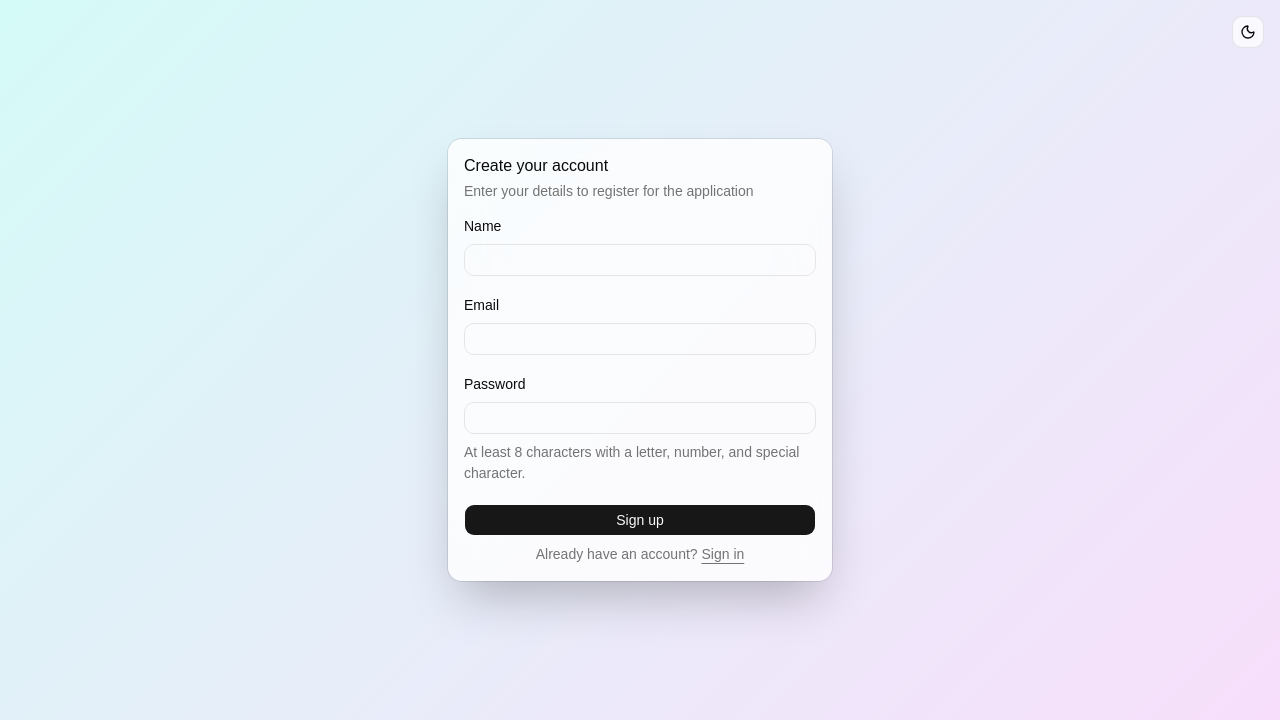
SignUpPage › shows duplicate email API errors
Expected: the heading "Create your account" is shown, top-left (464, 157), bottom-right (608, 174)
Step 1. Type "Jane Doe" into the field labelled "Name" → [640, 260], box top-left (464, 244), bottom-right (816, 276)
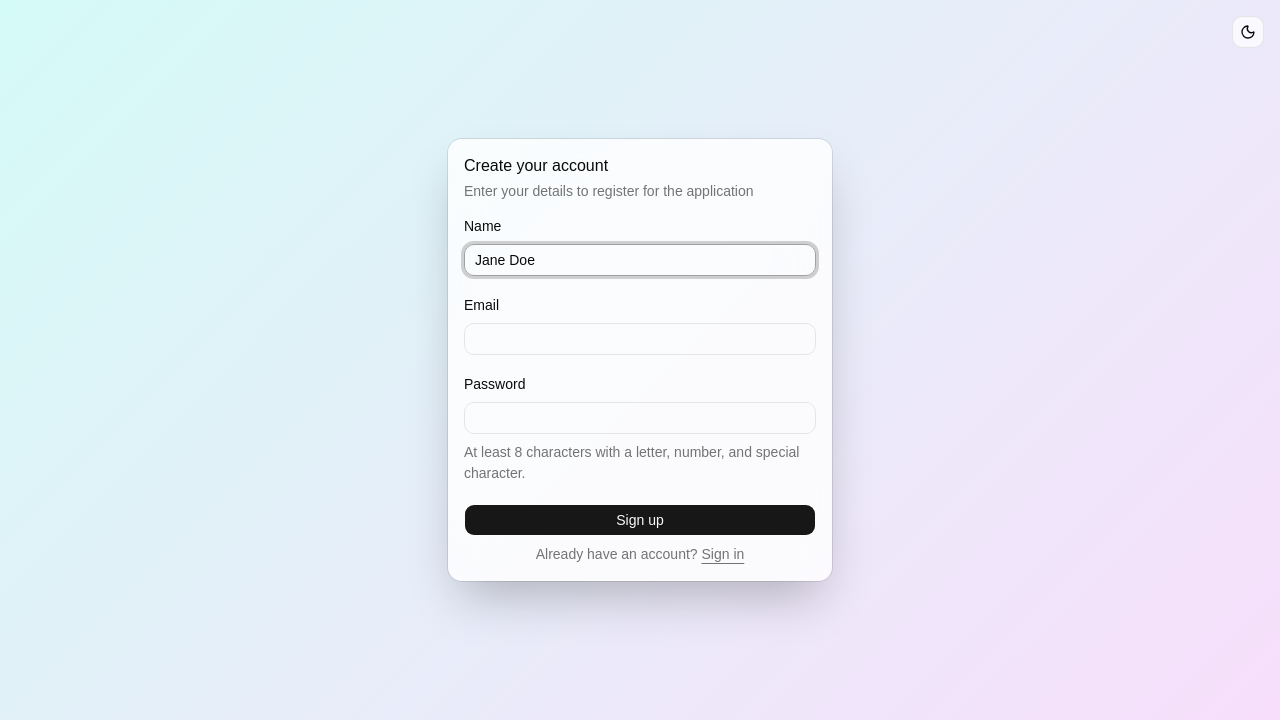
Step 2. Type "dup@example.com" into the field labelled "Email" → [640, 339], box top-left (464, 323), bottom-right (816, 355)
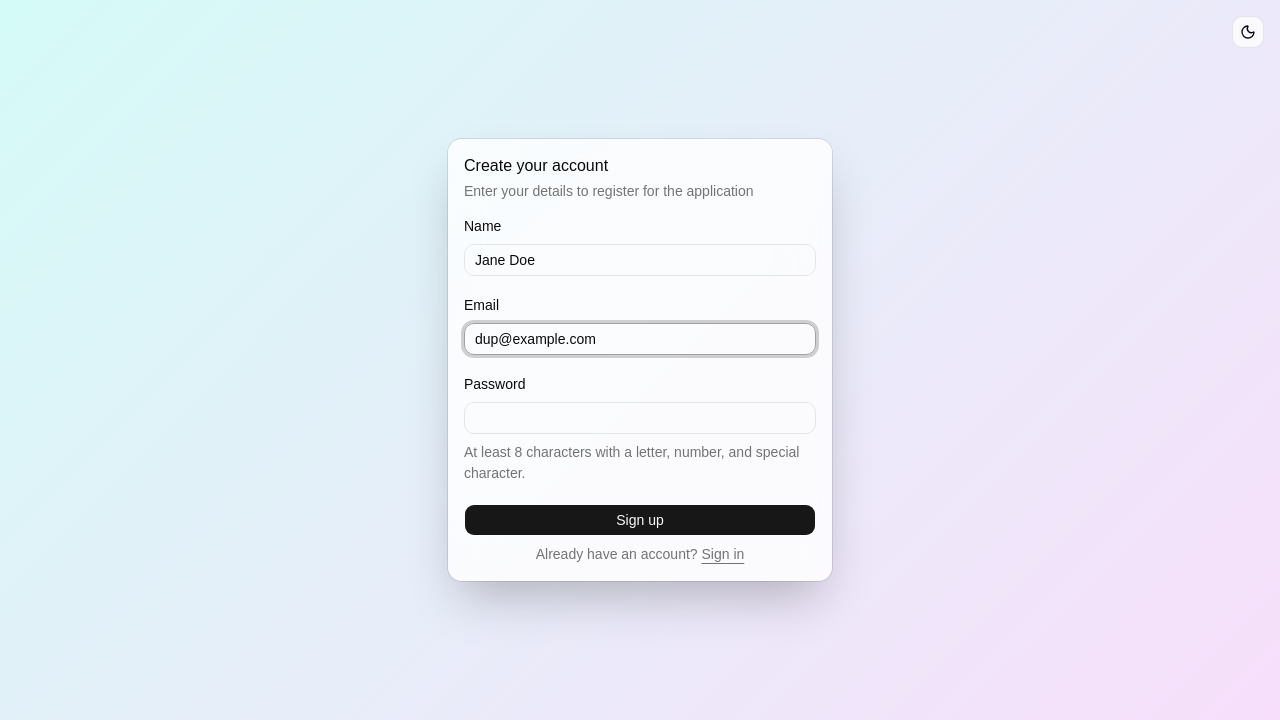
Step 3. Type "Secret1!" into the password field labelled "Password" → [640, 418], box top-left (464, 402), bottom-right (816, 434)
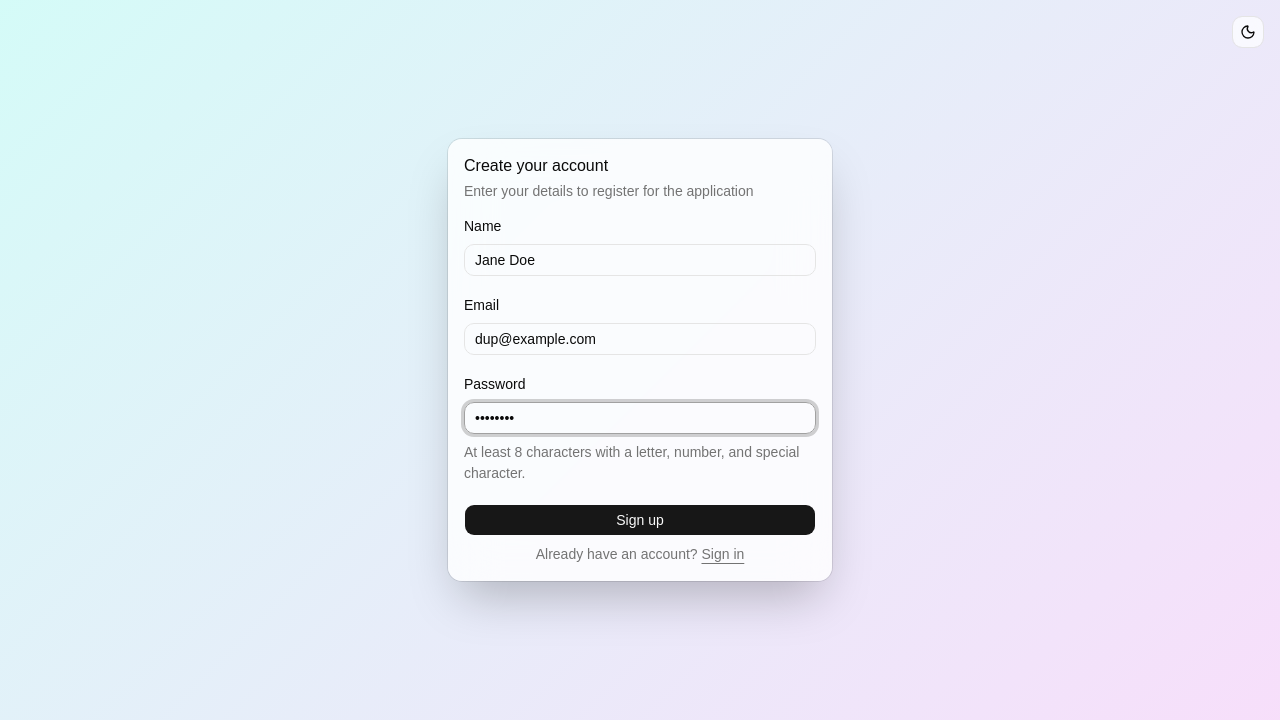
Step 4. Click the button "Sign up" → [640, 520], box top-left (464, 504), bottom-right (816, 536)
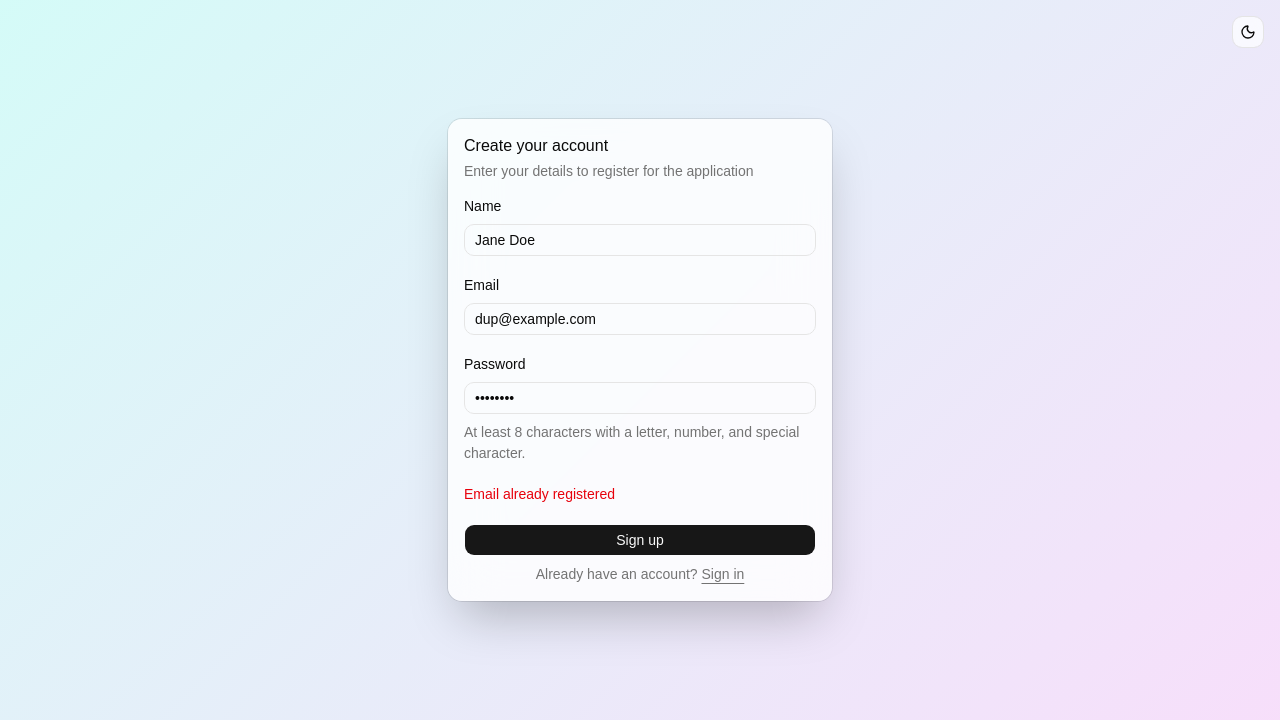
Expected: the message reads "Email already registered", top-left (464, 486), bottom-right (615, 502)
